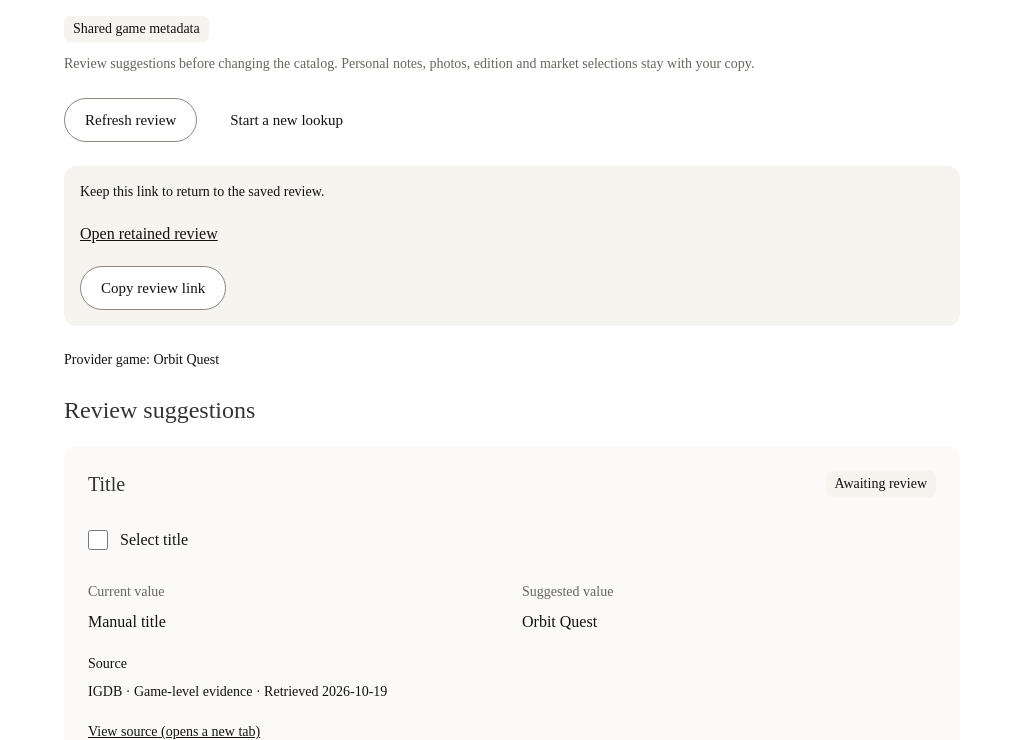
Scenario: shows readable comparisons and sources, requiring per-field manual acknowledgement
The width and height of the screenshot is (1024, 740).
expect the heading "Current value" is shown: met, box [88,584,165,599]
expect the heading "Suggested value" is shown: met, box [522,584,613,599]
Click the checkbox labelled "Select title" at [98, 540], box [88,530,108,550]
(page scrolled)
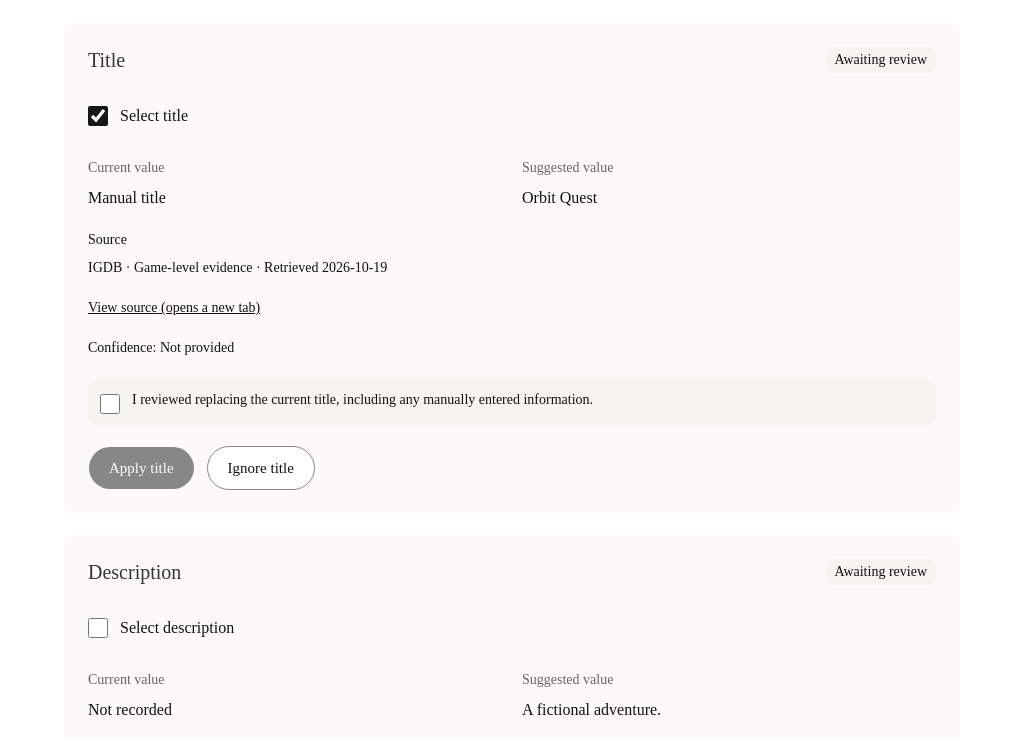
Click the checkbox labelled "I reviewed replacing the current title" at [110, 404], box [100,394,120,414]
(page scrolled)
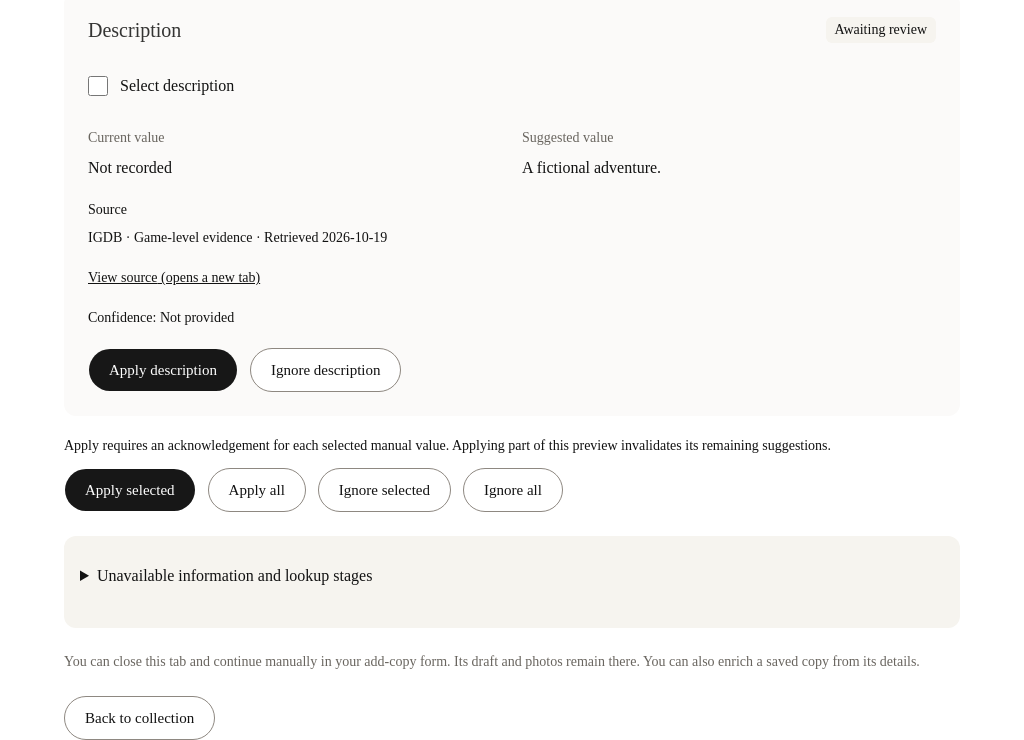
expect the button "Apply selected" is enabled: met
Click the button "Apply selected" at [130, 490], box [64,468,196,512]
(page scrolled)
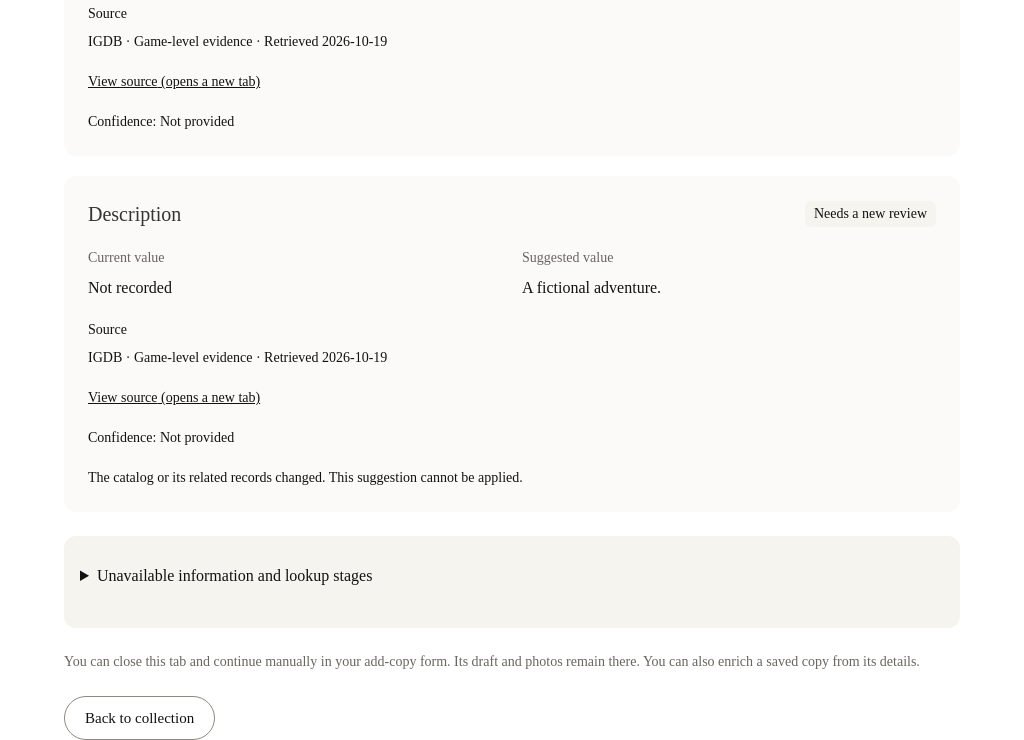
expect the text "Needs a new review" is shown: met, box [805,201,936,227]
